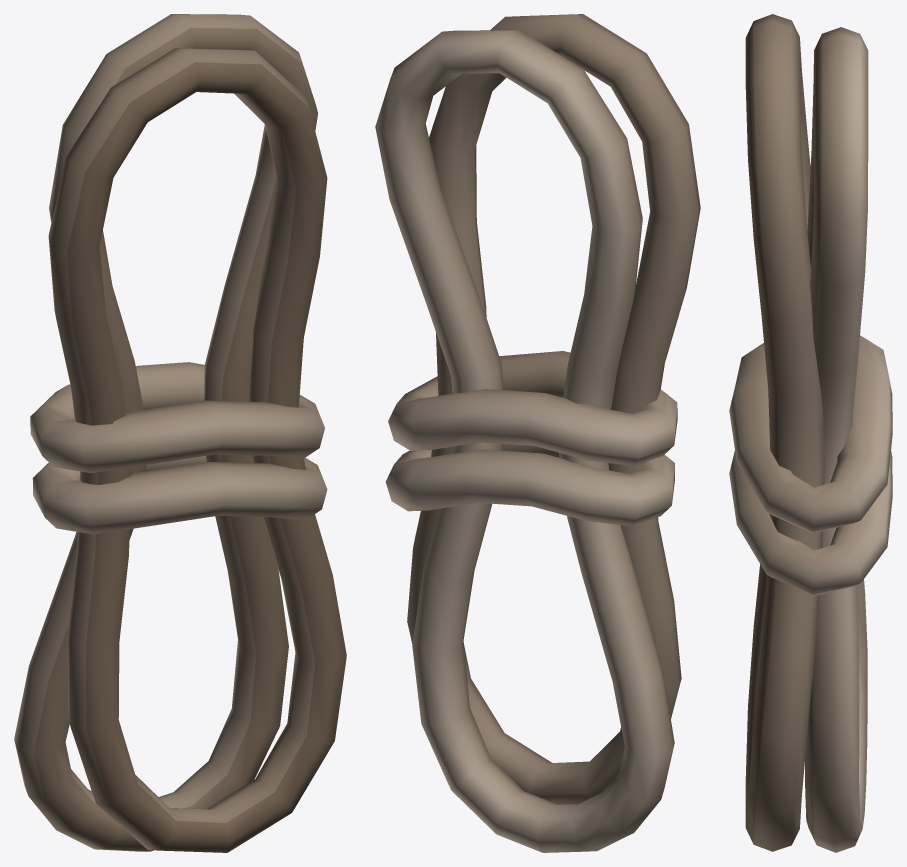
Rendered from rope.glb.
The picture shows the model from 3 angles, left to right: view 1: azimuth 30°, elevation 25°; view 2: azimuth 150°, elevation 25°; view 3: azimuth 270°, elevation 25°; orthographic projection.
Parts seen in each view (by area): view 1: rope_bundle_A; view 2: rope_bundle_A; view 3: rope_bundle_A.
Boxes of the visible parts, x1,y1,x2,y2 form: rope_bundle_A: (14,14,346,852); rope_bundle_A: (375,14,700,852); rope_bundle_A: (729,14,892,852).
Size of the model in its own units: 0.5844 by 1.55 by 0.2794.
1 material, 1 textured.
